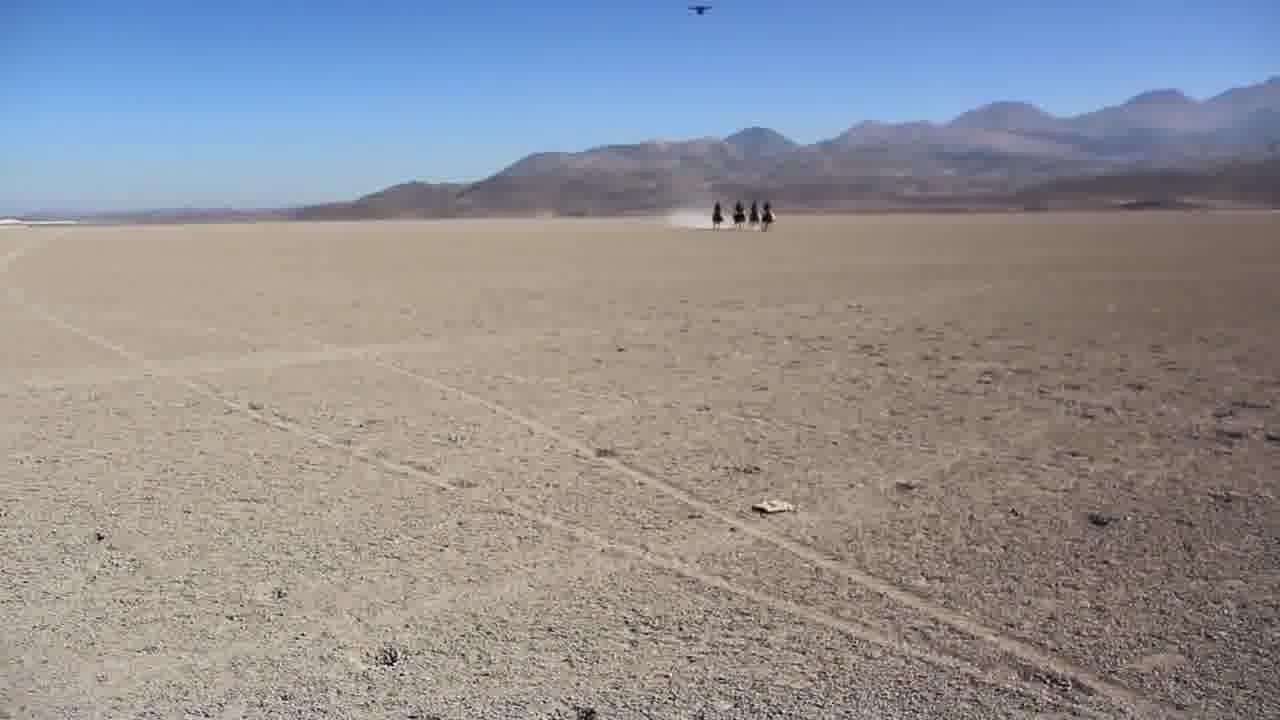drone: (684, 0, 715, 17)
